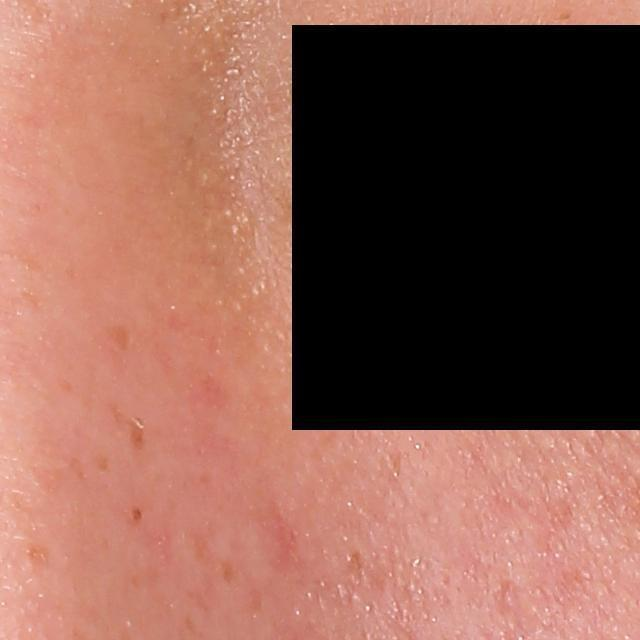melasma: (98, 322, 137, 357), (123, 414, 154, 455), (23, 539, 54, 568), (219, 555, 238, 584), (127, 504, 146, 524), (95, 452, 111, 474)
